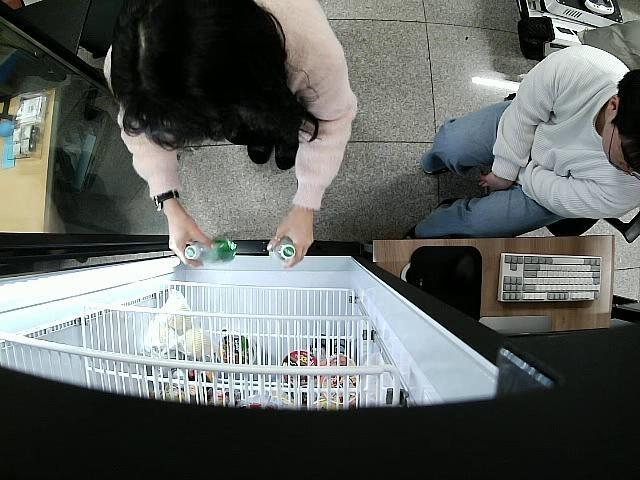18_trevi: (184, 235, 238, 269), (272, 236, 296, 264)
